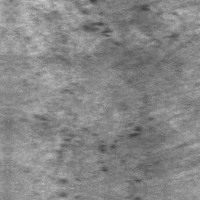rolled-in_scale: (30, 111, 150, 177), (45, 0, 161, 40)
